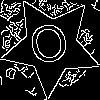O: (26, 21, 74, 75)
